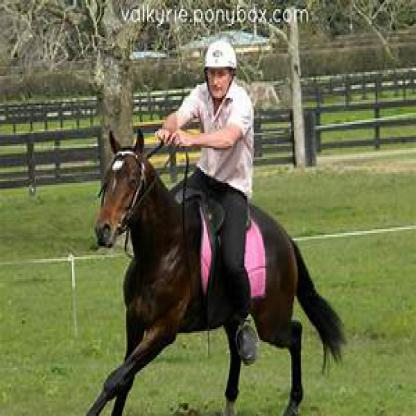dog: (87, 128, 347, 414)
